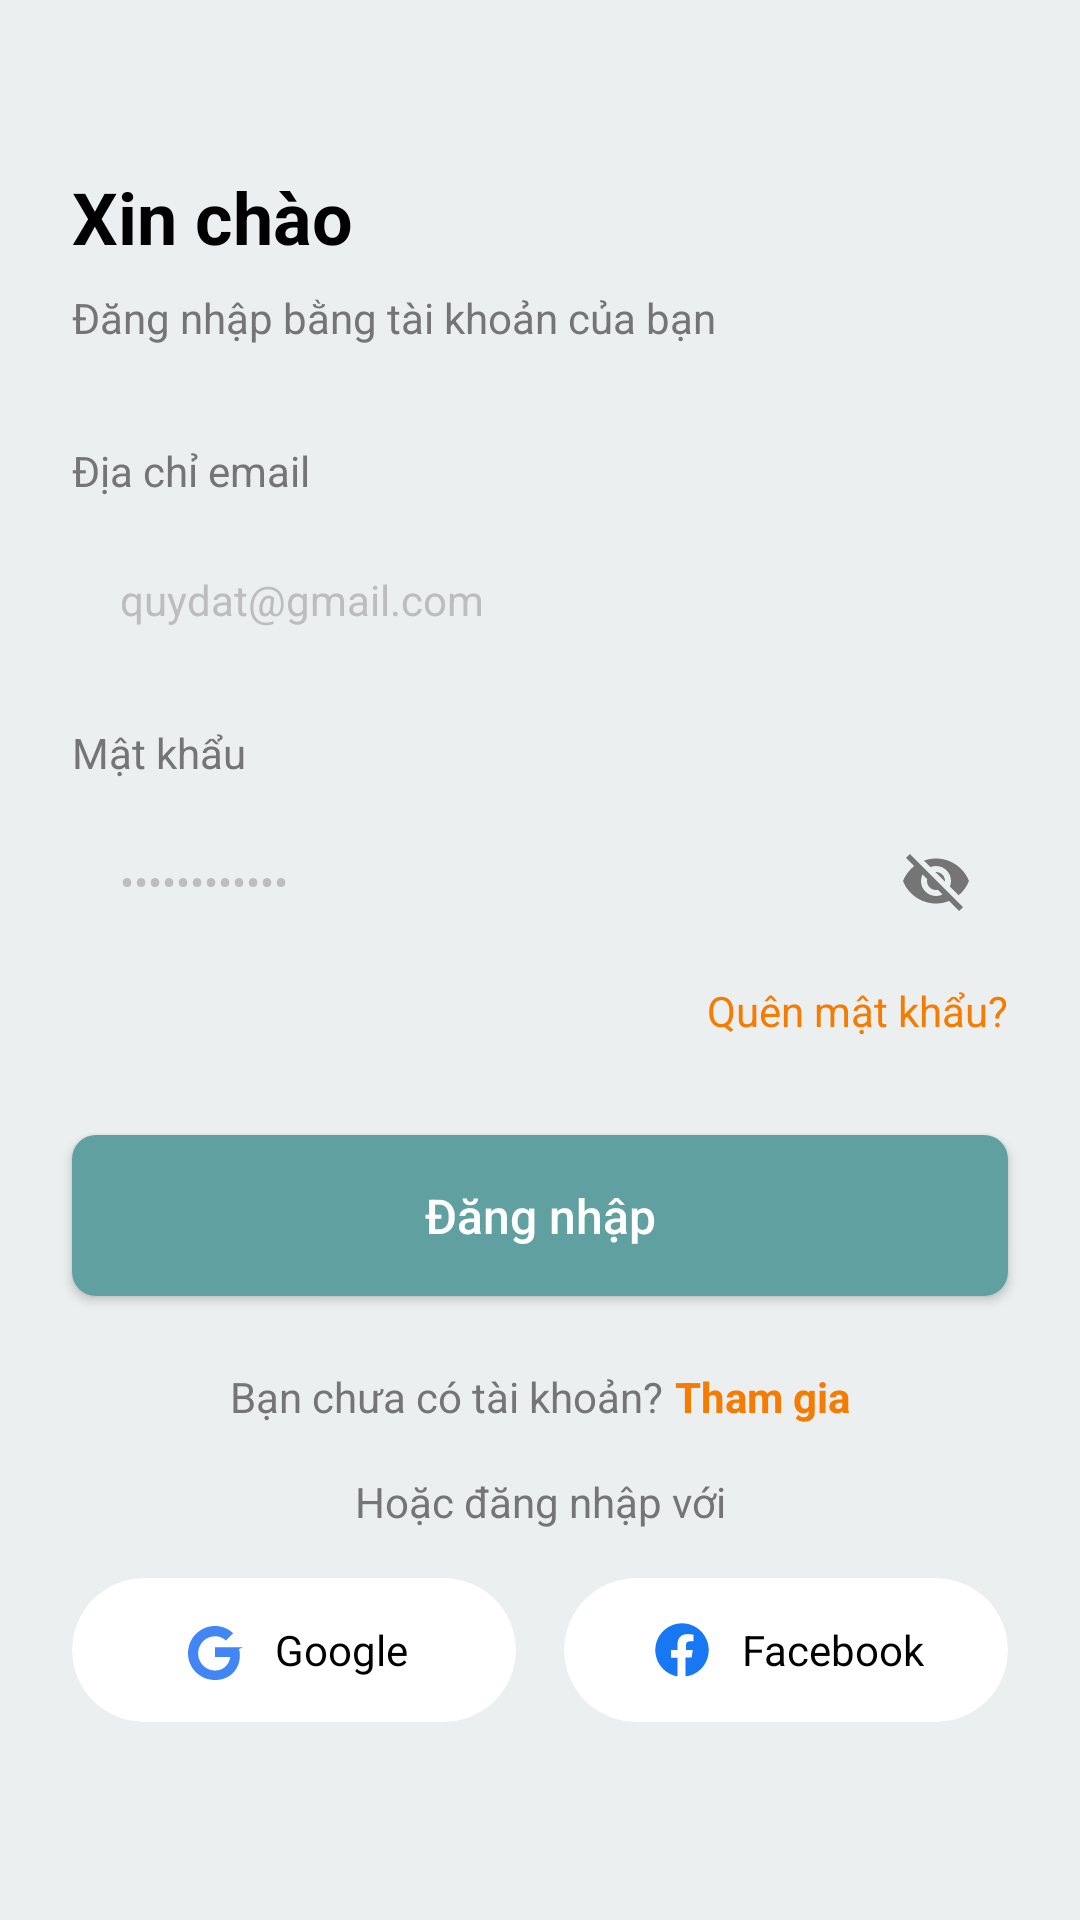

Named icons in this screenshot (1080×1920) and their centers, (x,y):
Hiển thị/Ẩn mật khẩu: (936,882)
